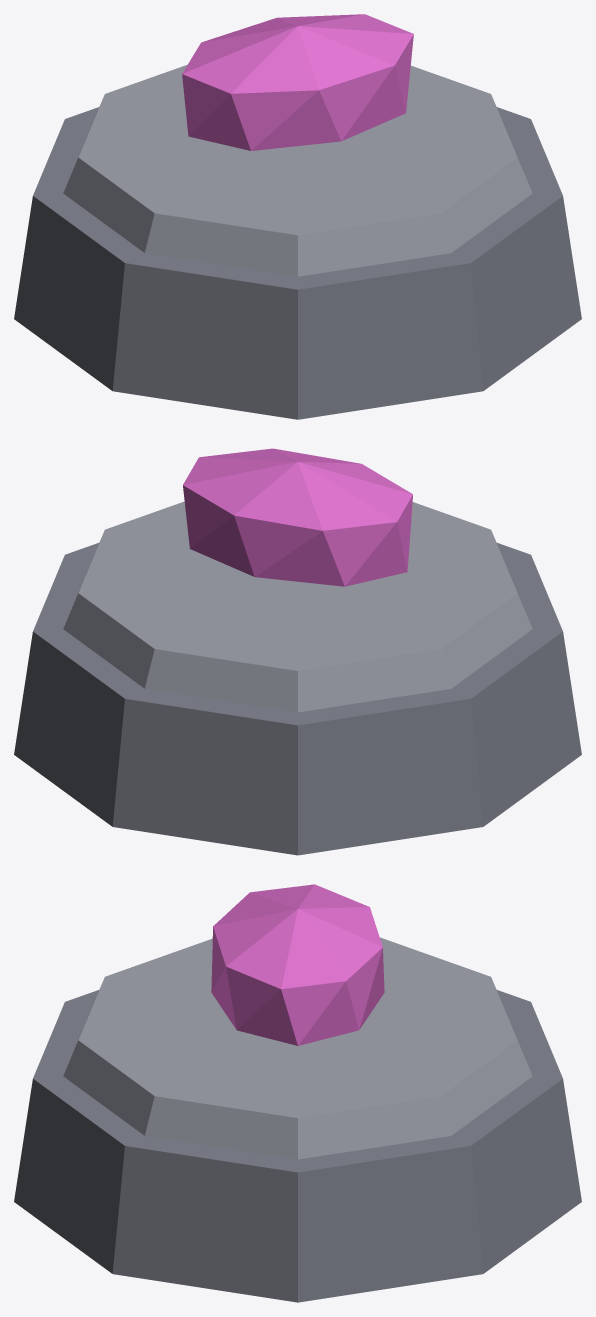
The model's file is drop_rune_mind.glb.
3 renders of one model, top to bottom at view 1: azimuth 30°, elevation 25°; view 2: azimuth 150°, elevation 25°; view 3: azimuth 270°, elevation 25°, orthographic.
Parts seen in each view (by area): view 1: drop_rune_mind; view 2: drop_rune_mind; view 3: drop_rune_mind.
Boxes of the visible parts, <box> form: drop_rune_mind: <box>14,14,581,419</box>; drop_rune_mind: <box>14,448,581,855</box>; drop_rune_mind: <box>14,884,581,1302</box>.
Size of the model in its own units: 0.1455 by 0.078 by 0.1477.
